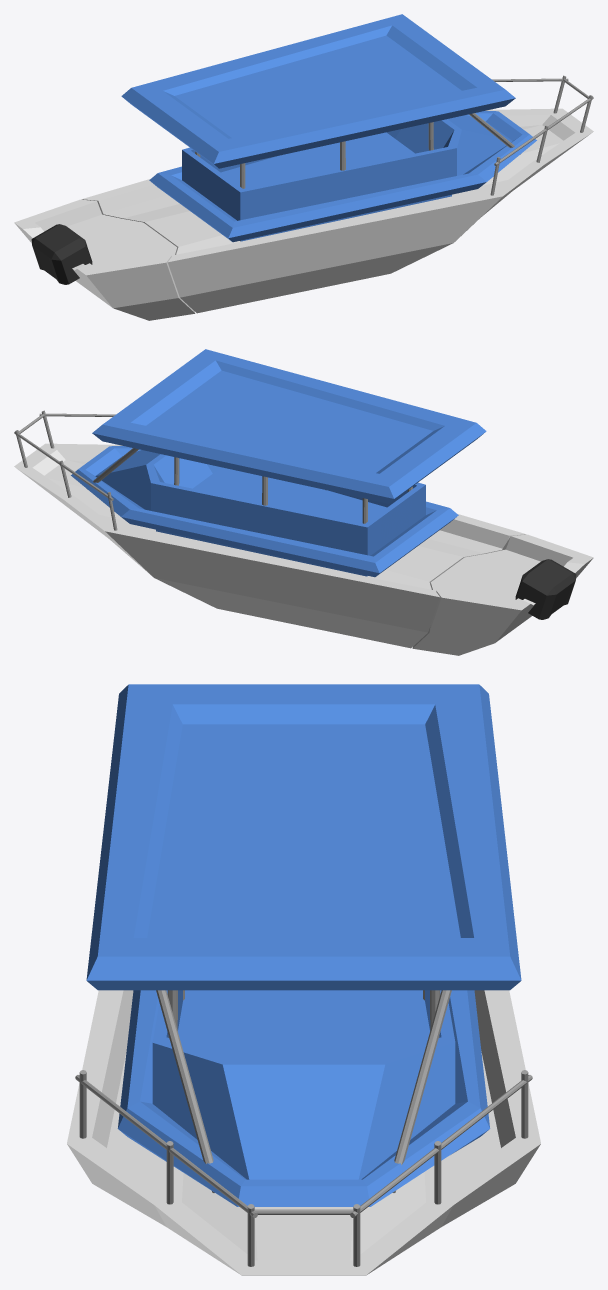
File: BoatParts.fbx
3 views of the same model, one above another, from view 1: azimuth 30°, elevation 25°; view 2: azimuth 150°, elevation 25°; view 3: azimuth 270°, elevation 25° (orthographic). The views are drawn at different scales.
Parts seen in each view (by area): view 1: BoatParts.002, BoatParts, BoatParts.001; view 2: BoatParts.002, BoatParts, BoatParts.001; view 3: BoatParts.002, BoatParts.
Boxes of the visible parts, box(x1,y1,x2,y2) form: BoatParts.002: box(121, 14, 536, 242); BoatParts: box(81, 75, 593, 313); BoatParts.001: box(14, 199, 195, 320); BoatParts.002: box(71, 349, 486, 577); BoatParts: box(14, 410, 526, 648); BoatParts.001: box(412, 534, 593, 655); BoatParts.002: box(86, 684, 521, 1206); BoatParts: box(67, 990, 540, 1275).
Bounding box in the file's own units: 10293 × 3009 × 3921.
